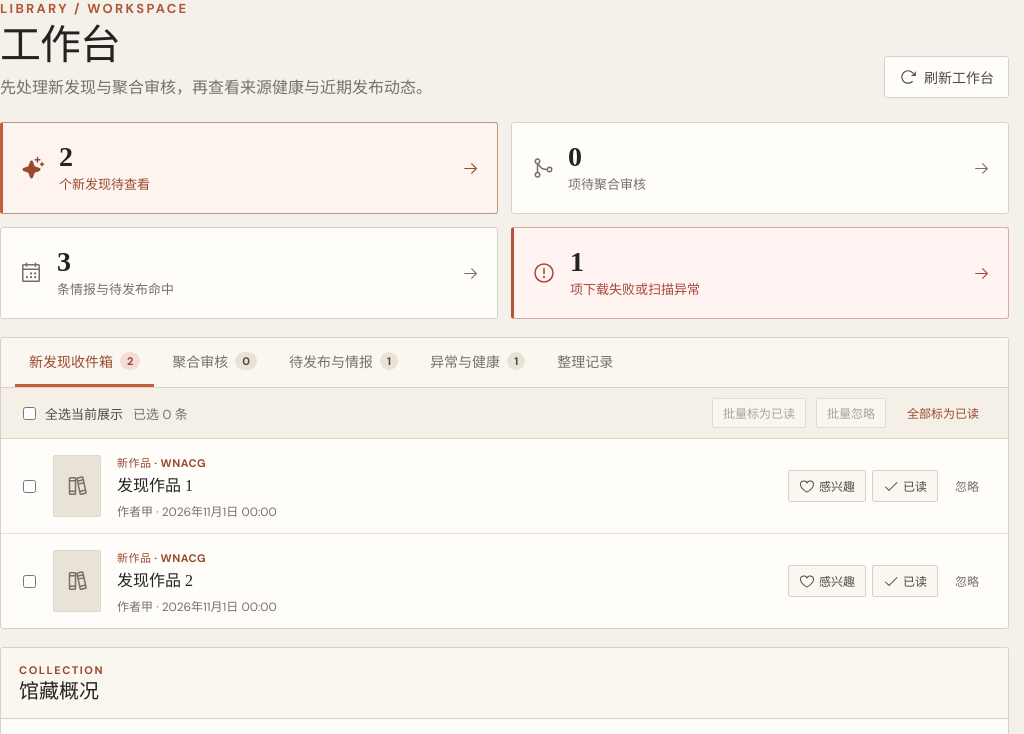
it: Workspace › batch marks selected discoveries and reports partial changes
expect the heading "发现作品 1" is shown: met, box [117,477,193,494]
Click the checkbox labelled "全选当前展示" at (30, 413), box [23,406,36,420]
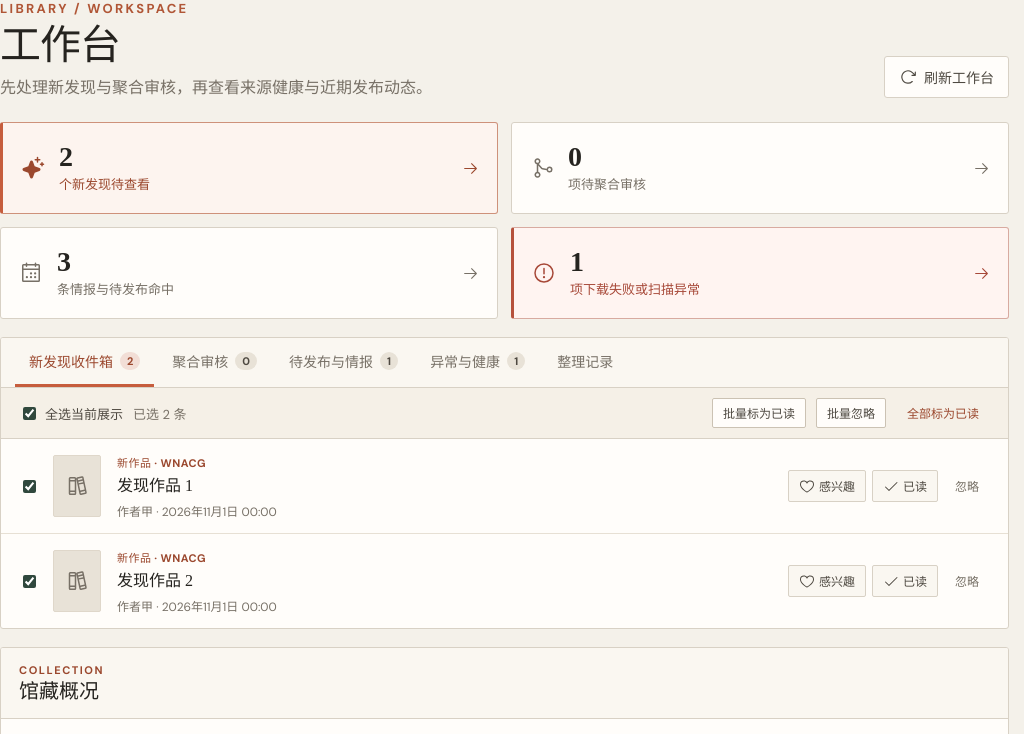
Click the button "批量标为已读" at (759, 413), box [712,398,806,428]
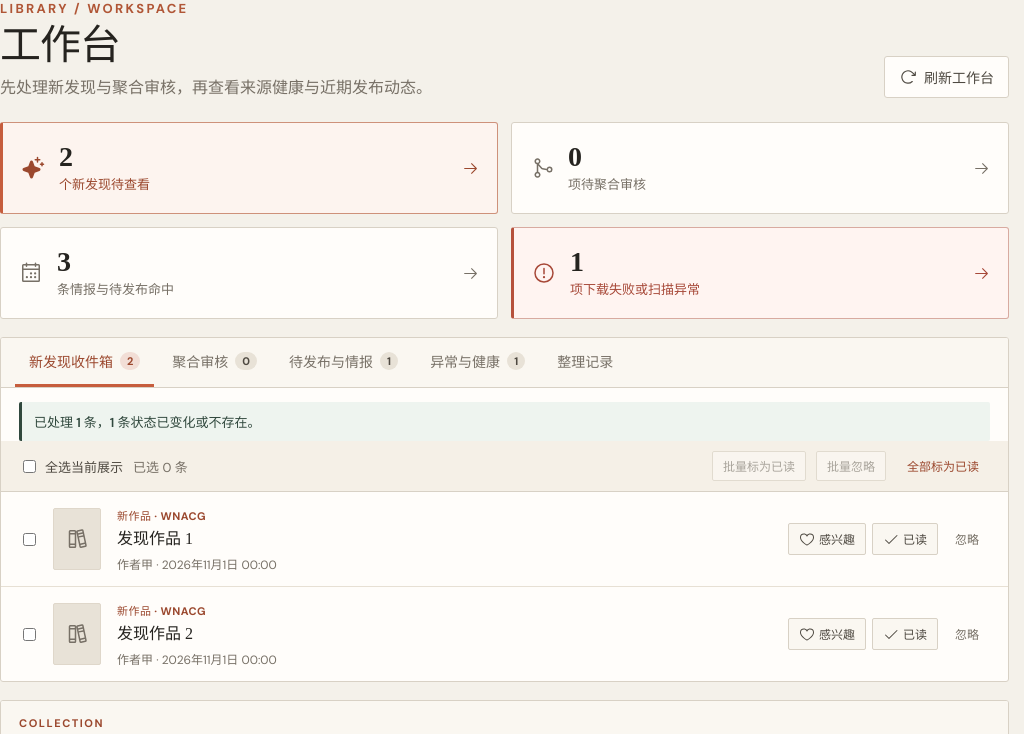
expect the text "已处理 1 条，1 条状态已变化或不存在。" is shown: met, box [19,402,990,441]
